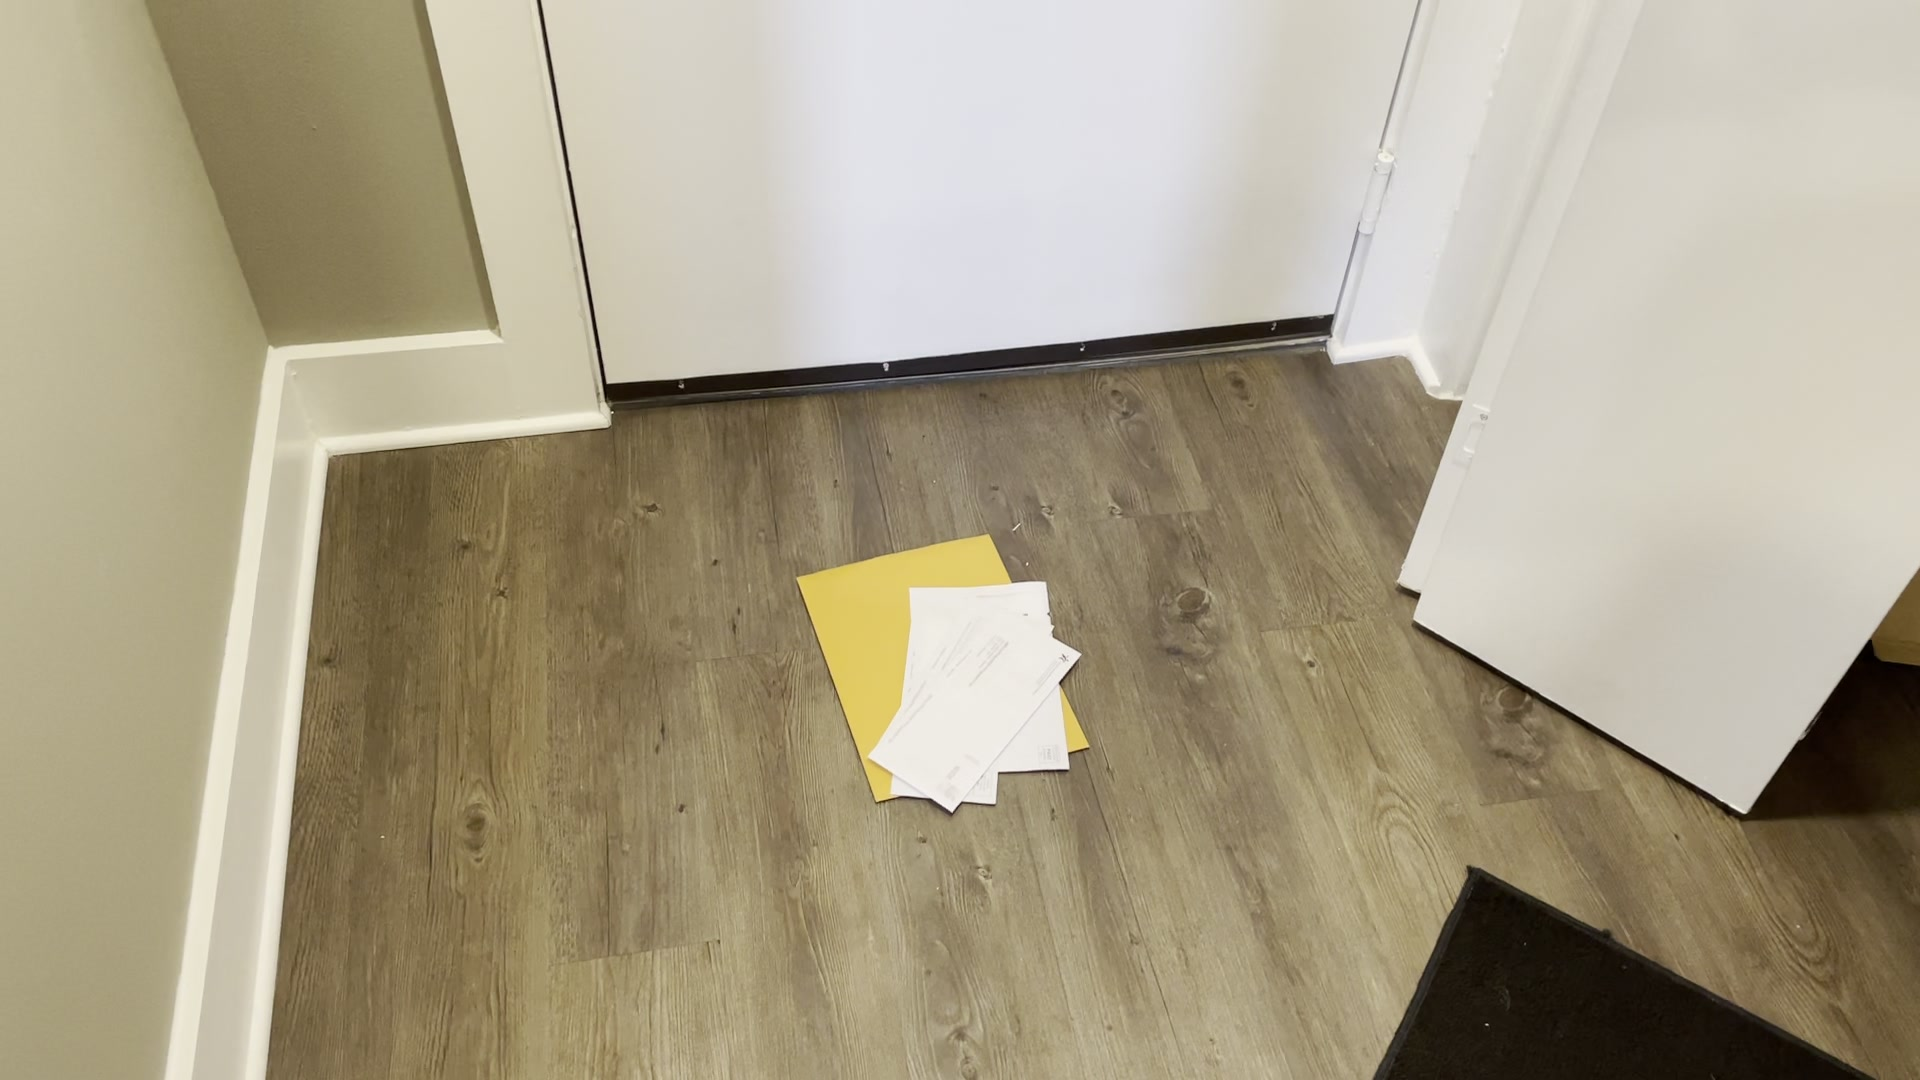envelope: (779, 520, 1112, 812)
